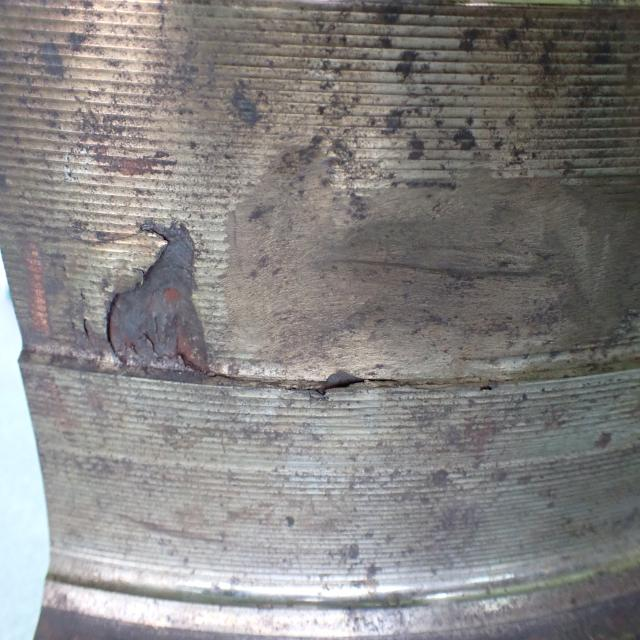Contact_Fatigue_Cracks: (219, 357, 493, 409)
Peeling: (105, 221, 212, 377)
